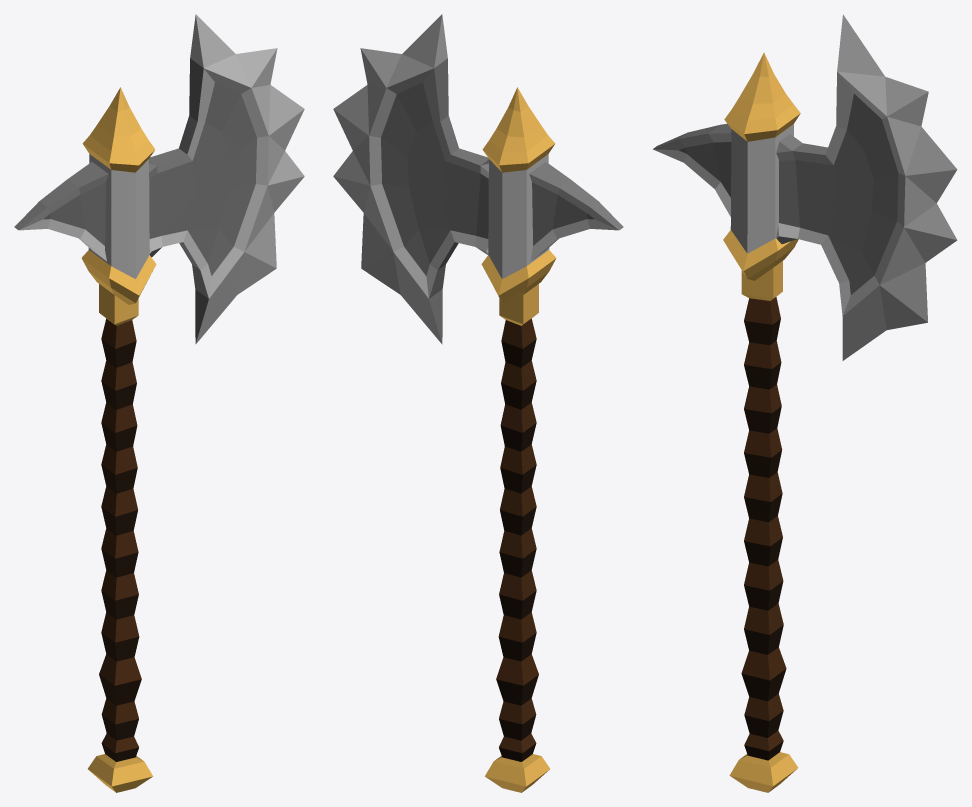
The model's file is Axe_M_AD_002.fbx.
3 renders of one model, left to right at view 1: azimuth 30°, elevation 25°; view 2: azimuth 150°, elevation 25°; view 3: azimuth 330°, elevation 25°, orthographic. The views are drawn at different scales.
Parts seen in each view (by area): view 1: Axe_M_AD_002; view 2: Axe_M_AD_002; view 3: Axe_M_AD_002.
Boxes of the visible parts, <box> form: Axe_M_AD_002: <box>14,14,304,792</box>; Axe_M_AD_002: <box>333,14,623,792</box>; Axe_M_AD_002: <box>653,14,957,792</box>.
Size of the model in its own units: 0.9672 by 2.42 by 0.2235.
